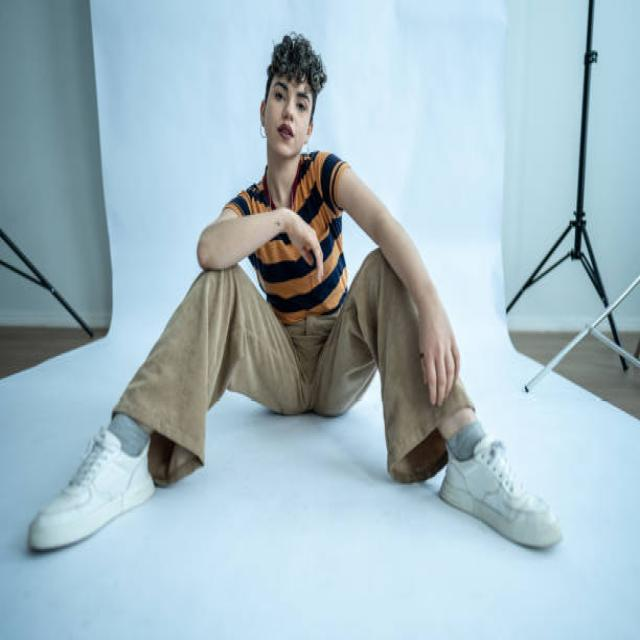Real human 2: (31, 27, 577, 562)
